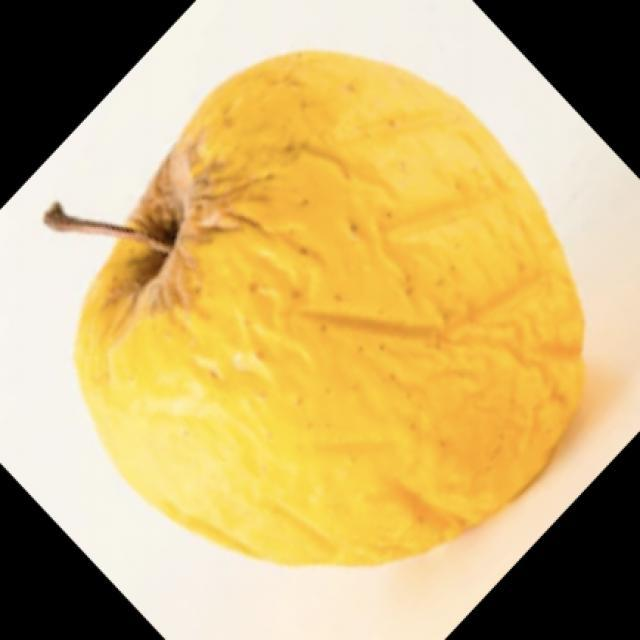Rotten: (85, 49, 587, 578)
